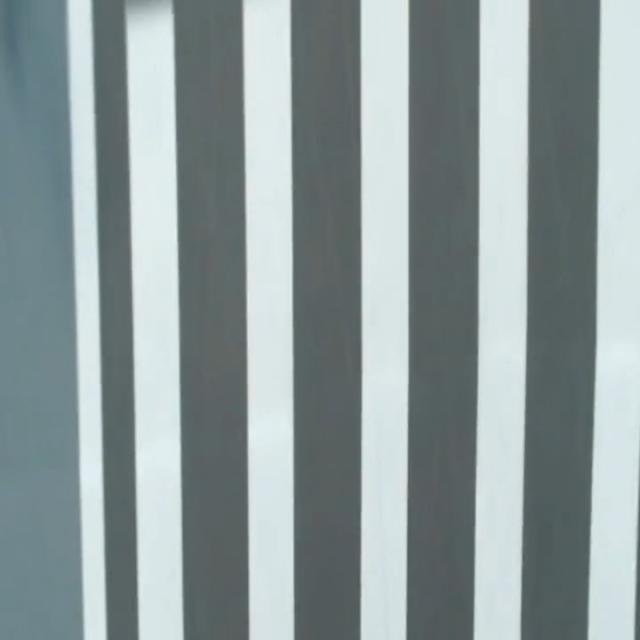left: (67, 0, 106, 639)
